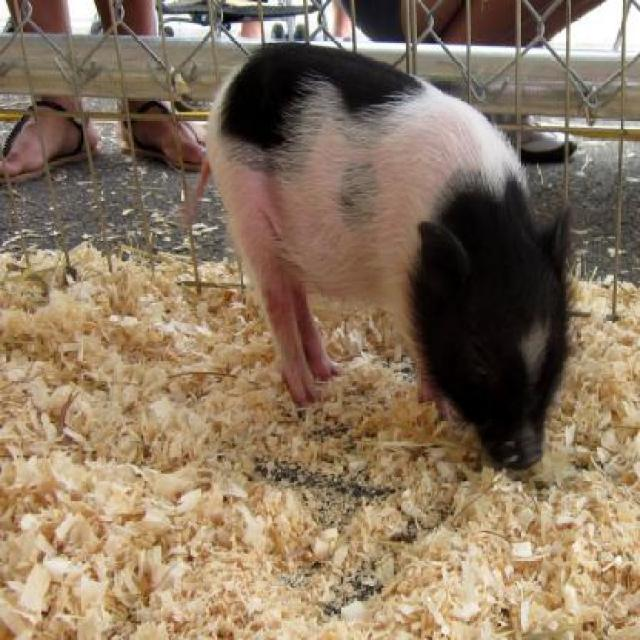Boar: (204, 41, 582, 474)
